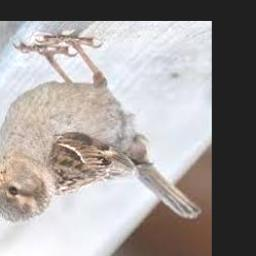Sparrow: (0, 36, 202, 224)
